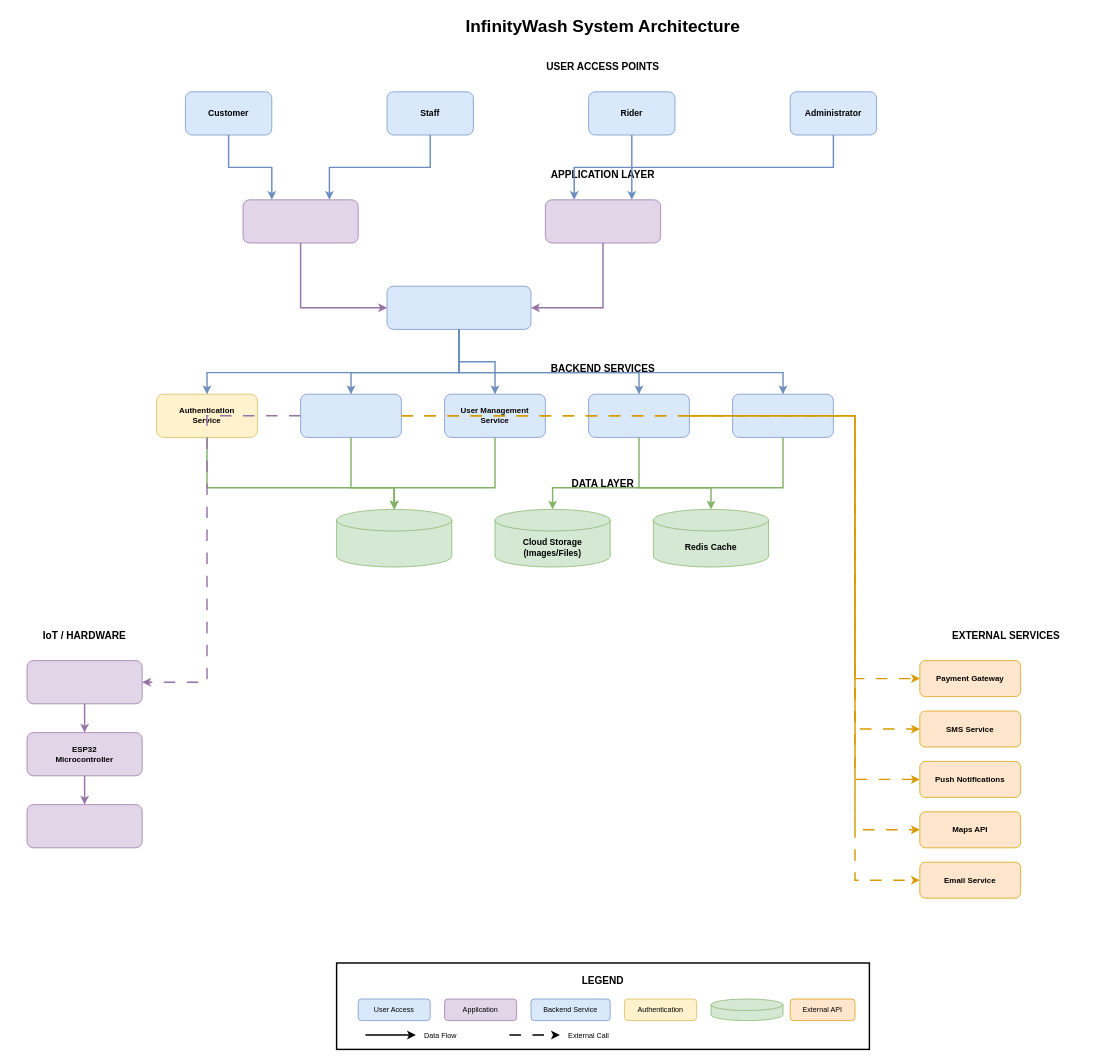
Some shapes in this 1104 by 1062 pixel diagram are drawn without their labels. The centre of each missing label's shape, as x and y in pixels:
"API Gateway & Router" goes at [458,307].
"Data Storage" goes at [746,1009].
"File Storage Service" goes at [782,415].
"Flutter Mobile App" goes at [300,221].
"IoT Gateway Service" goes at [84,682].
"Order Management Service" goes at [350,415].
"Real-time Notifications" goes at [638,415].
"RFID RC522 Reader" goes at [84,826].
"Supabase PostgreSQL Database" goes at [394,538].
"Web Application" goes at [603,221].
